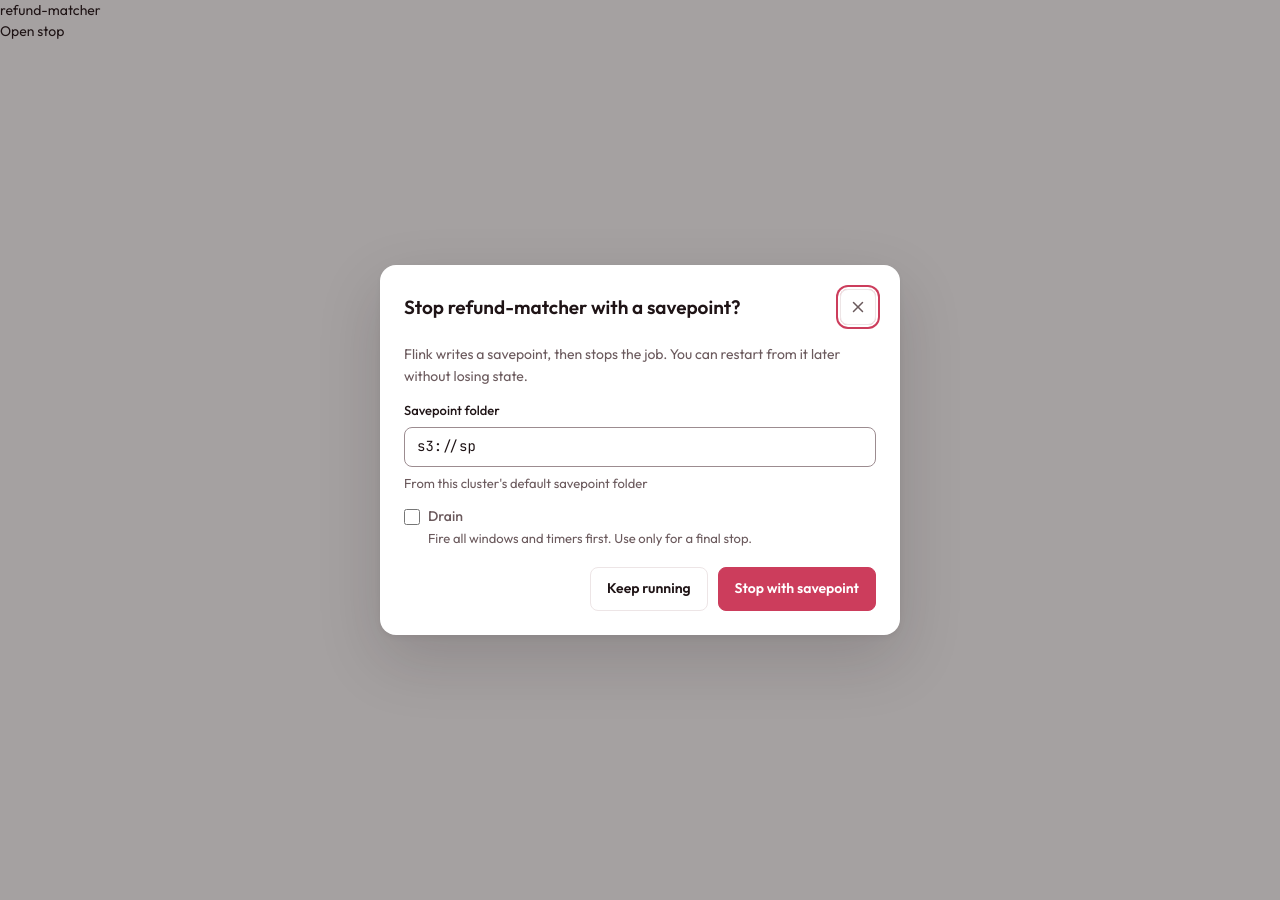
Scenario: ACT-01 · stop with savepoint (D15, D15b, D15c, D15d) › audit stop #2: while the stop is being sent, the dialog cannot be closed; closed while it runs, the result still comes as a toast
The image size is (1280, 900).
Expected: the field showing "s3://sp" is shown, [404, 427, 876, 467]
Click the button "Stop with savepoint".
click(797, 589)  # box [718, 567, 876, 611]
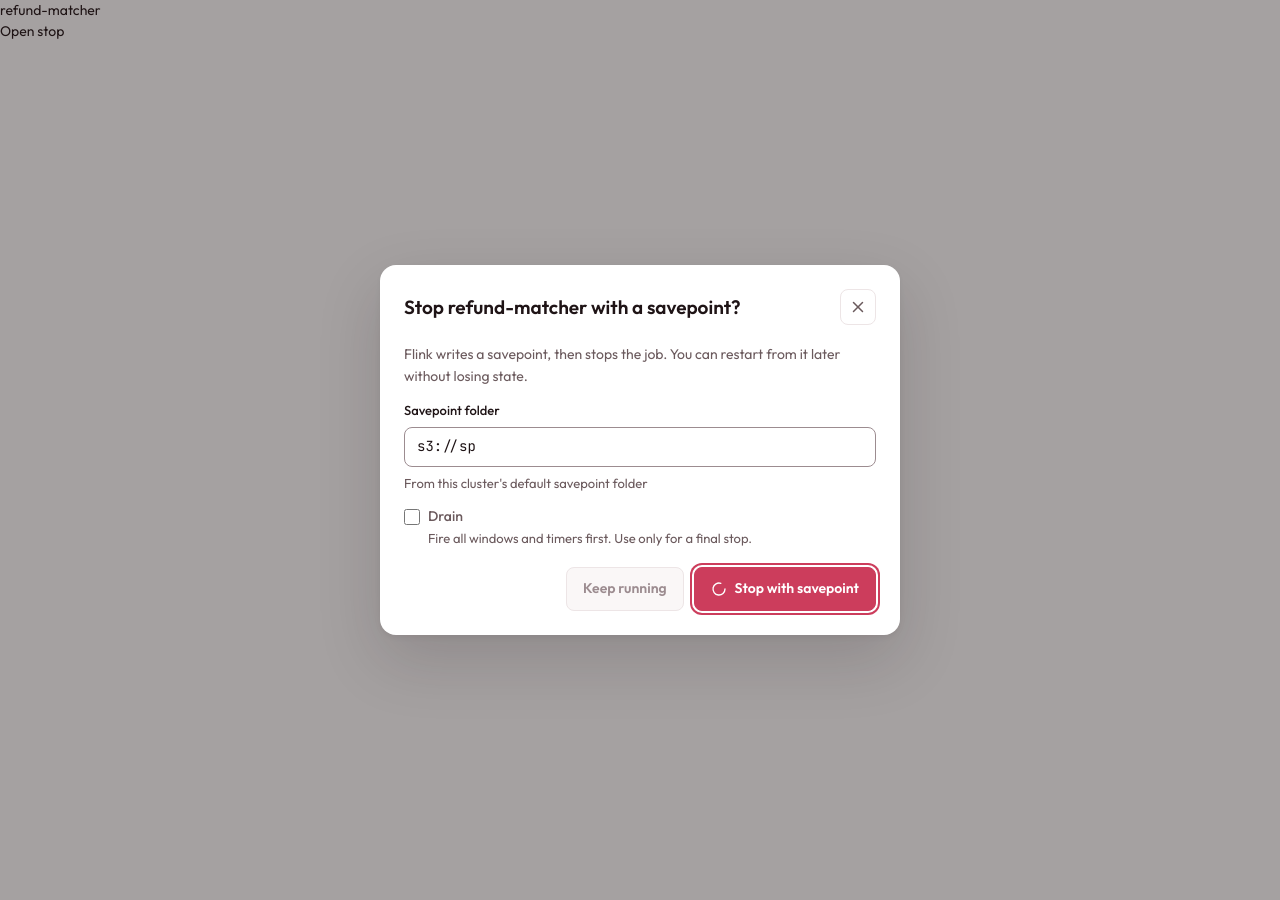
Now the button "Keep running" is disabled, box [566, 567, 684, 611]
Press Escape
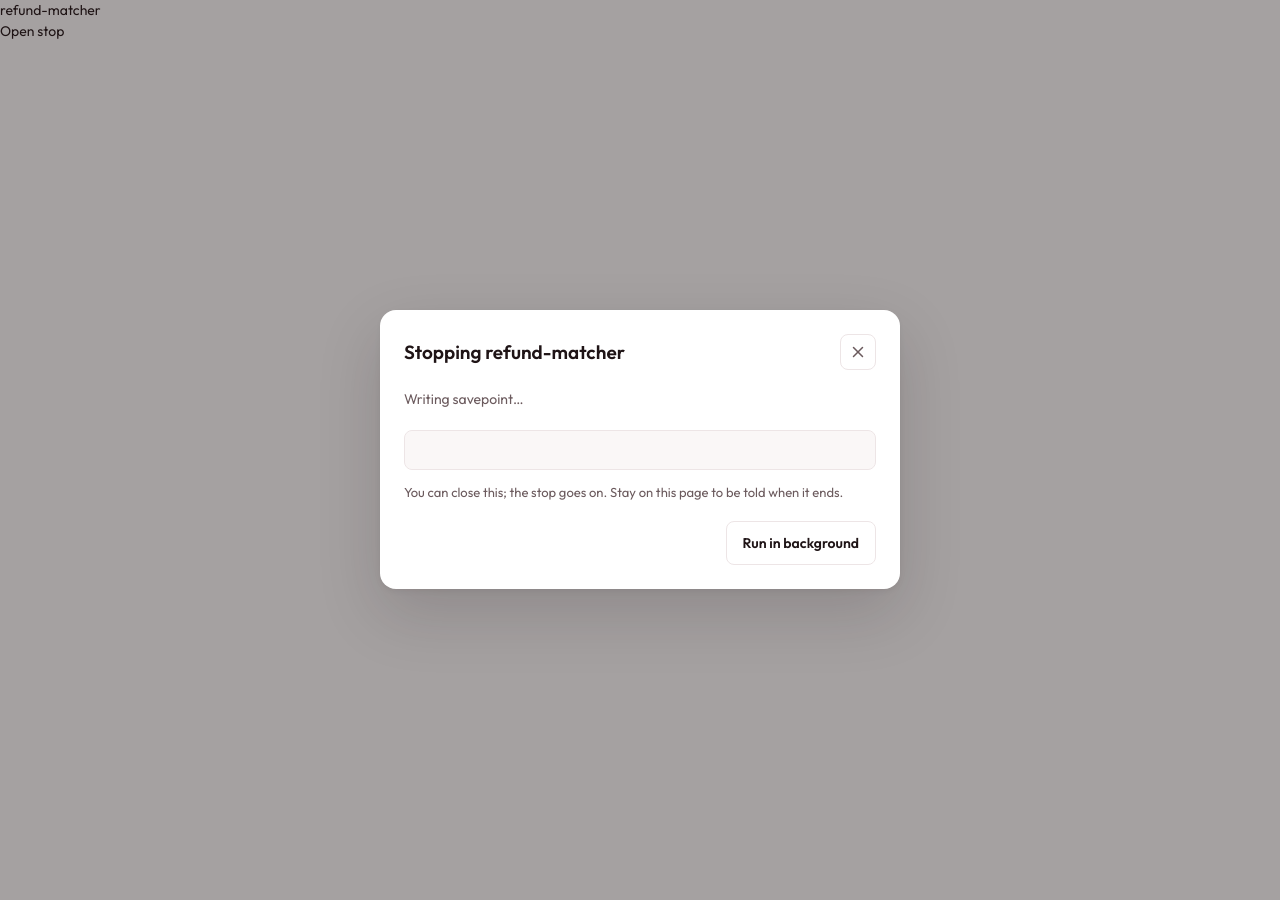
Now the dialog "Stopping refund-matcher" is shown, box [380, 310, 900, 590]
Press Escape
Wait 3000 ms
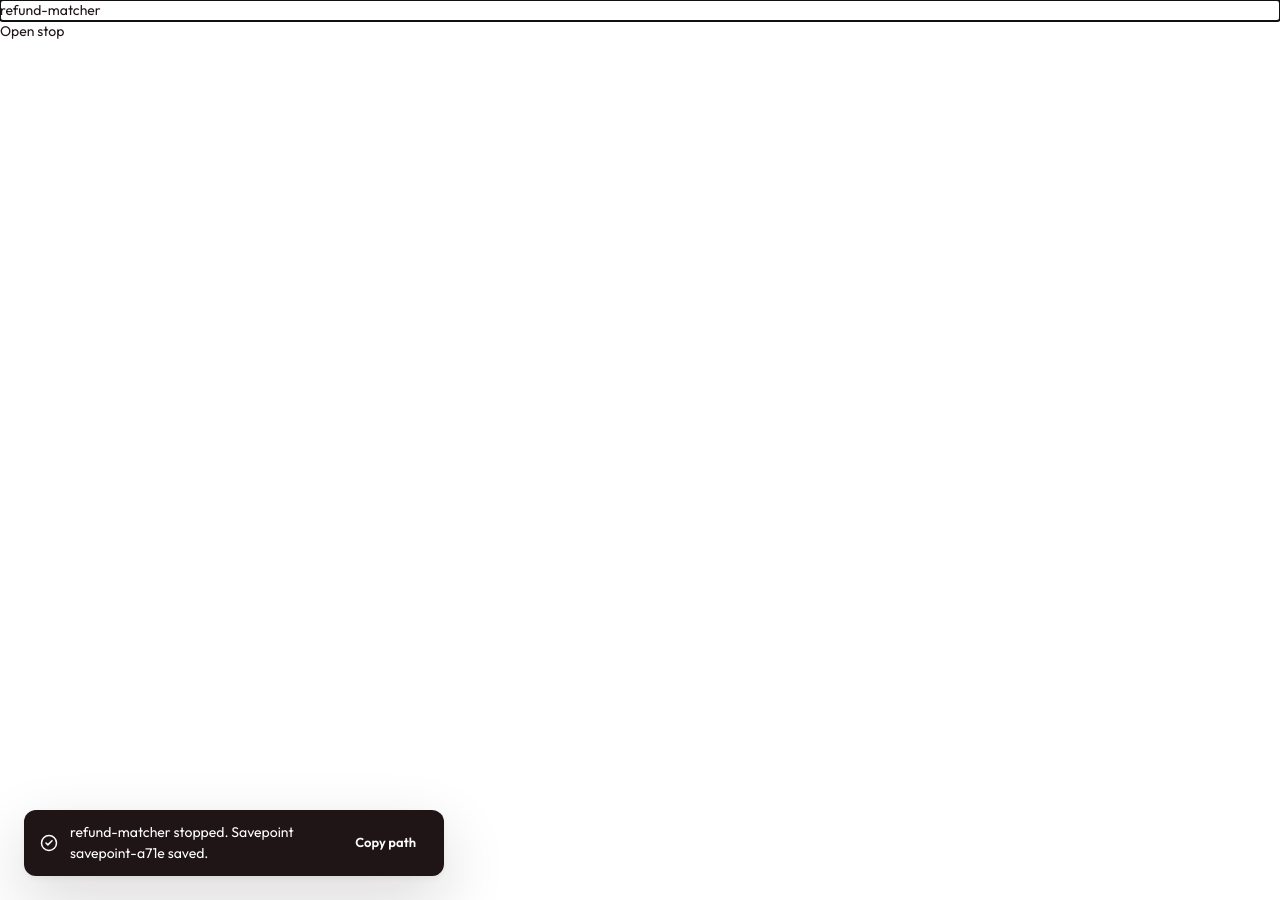
Now the dialog is gone
